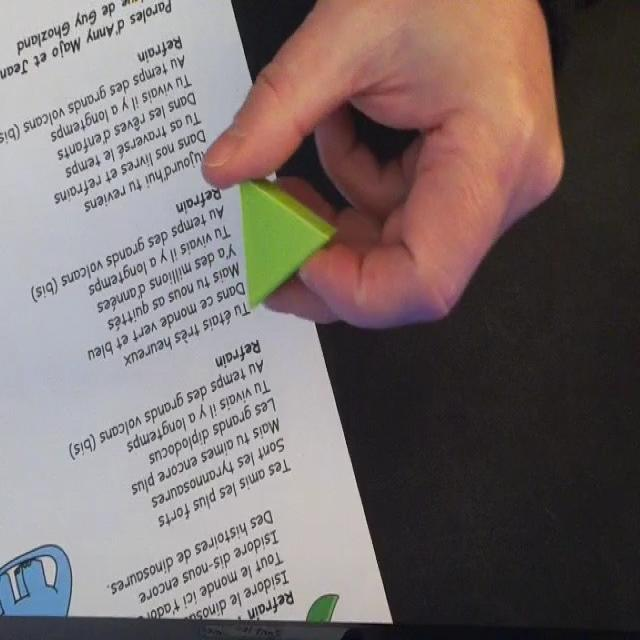triangle: (238, 170, 335, 309)
